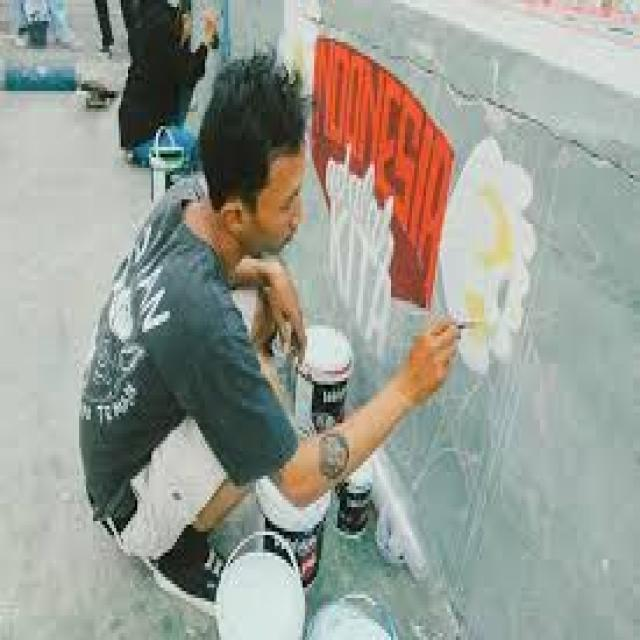-: (307, 34, 538, 380)
